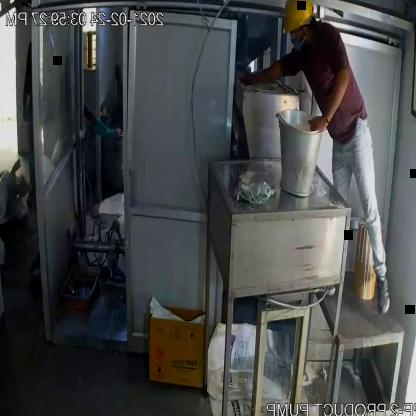helmet: (280, 0, 315, 38)
